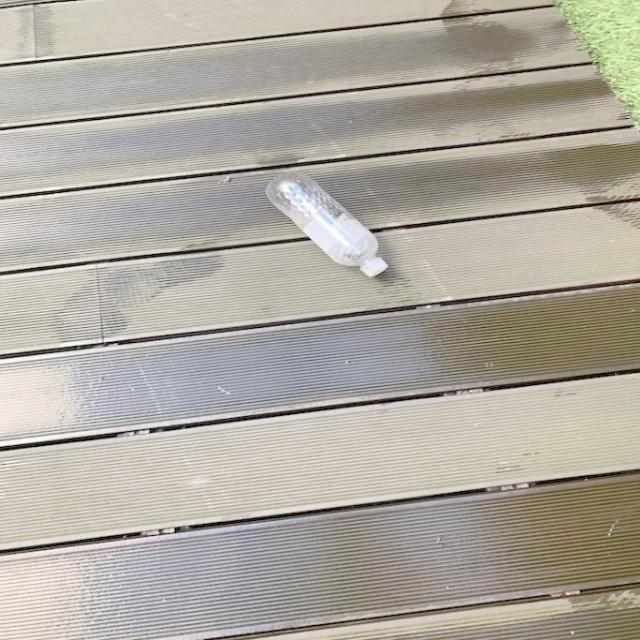bottle: (266, 175, 389, 278)
